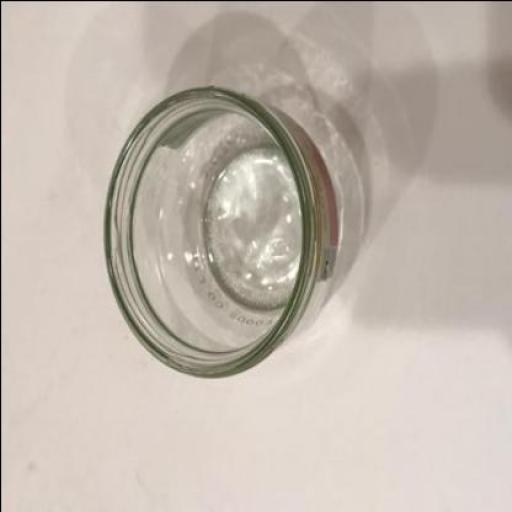glass: (102, 86, 339, 378)
